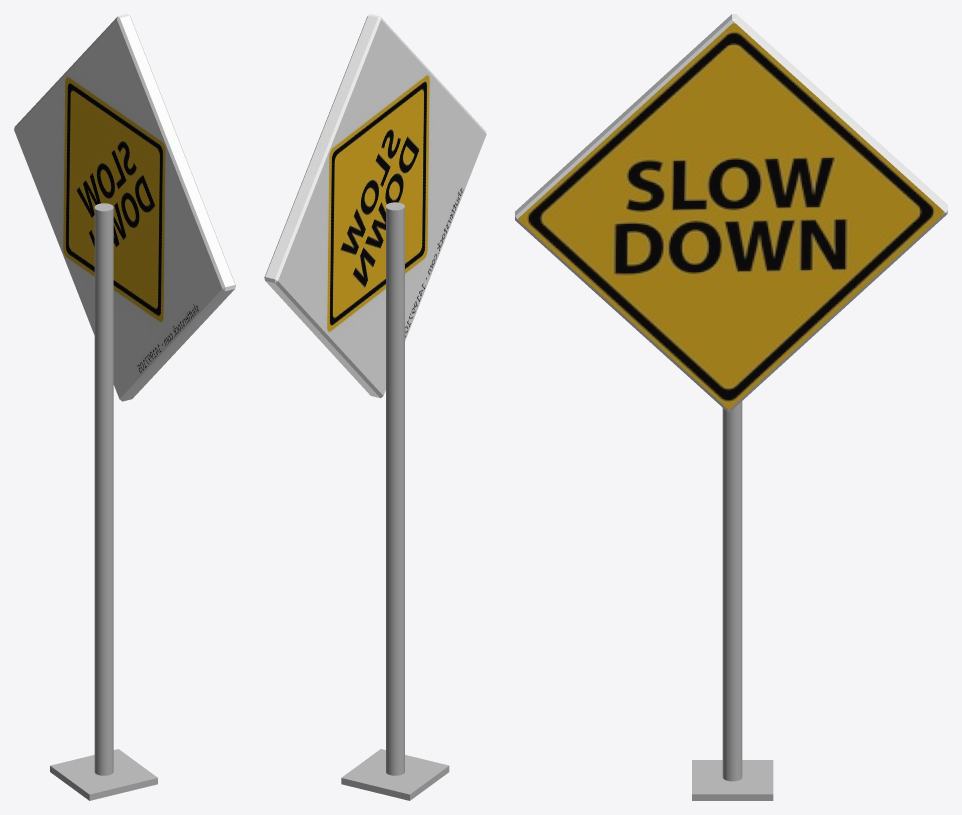
Rendered from slow down.fbx.
The picture shows the model from 3 angles, left to right: view 1: azimuth 30°, elevation 25°; view 2: azimuth 150°, elevation 25°; view 3: azimuth 270°, elevation 25°; orthographic projection. The views are drawn at different scales.
Parts seen in each view (by area): view 1: Plane, Cylinder; view 2: Plane, Cylinder; view 3: Plane, Cylinder.
Boxes of the visible parts, <box> form: Plane: <box>14,14,235,401</box>; Cylinder: <box>50,203,157,800</box>; Plane: <box>264,14,486,398</box>; Cylinder: <box>341,202,449,800</box>; Plane: <box>515,14,947,411</box>; Cylinder: <box>692,401,773,800</box>.
Bounding box in the file's own units: 75.04 × 792 × 399.
